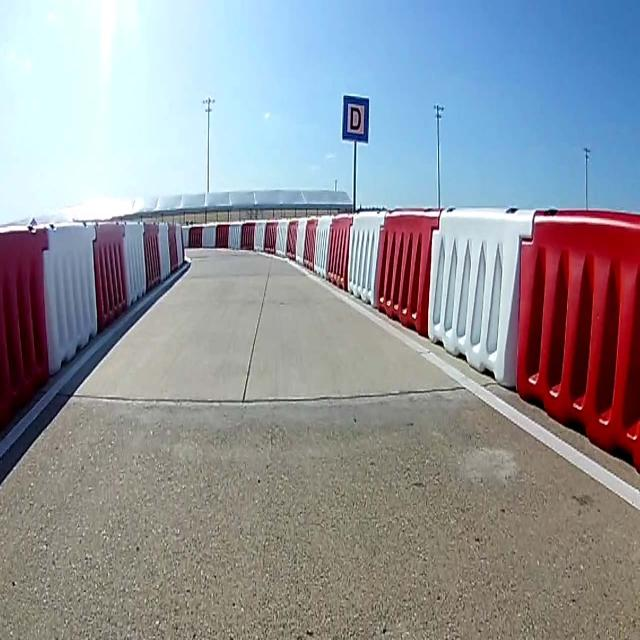durak: (340, 95, 370, 142)
